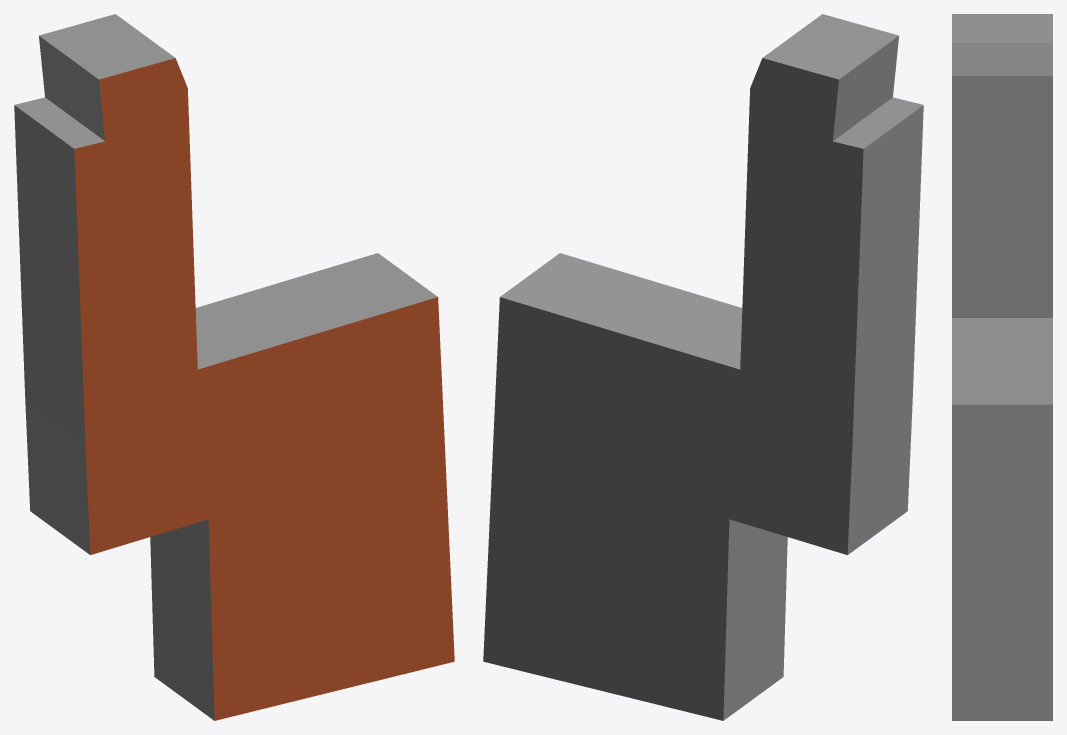
Rendered from construction_1678_assumed_A_Casa_h6m.obj.
3 renders of one model, left to right at view 1: azimuth 30°, elevation 25°; view 2: azimuth 150°, elevation 25°; view 3: azimuth 270°, elevation 25°, orthographic. The views are drawn at different scales.
Parts seen in each view (by area): view 1: construction_1678_assumed_A_Casa; view 2: construction_1678_assumed_A_Casa; view 3: construction_1678_assumed_A_Casa.
Part boxes in pixels (x1=…): construction_1678_assumed_A_Casa: x1=14, y1=14, x2=454, y2=720; construction_1678_assumed_A_Casa: x1=483, y1=14, x2=923, y2=720; construction_1678_assumed_A_Casa: x1=952, y1=14, x2=1052, y2=720.
Size of the model in its own units: 21.9 by 36.99 by 6.
